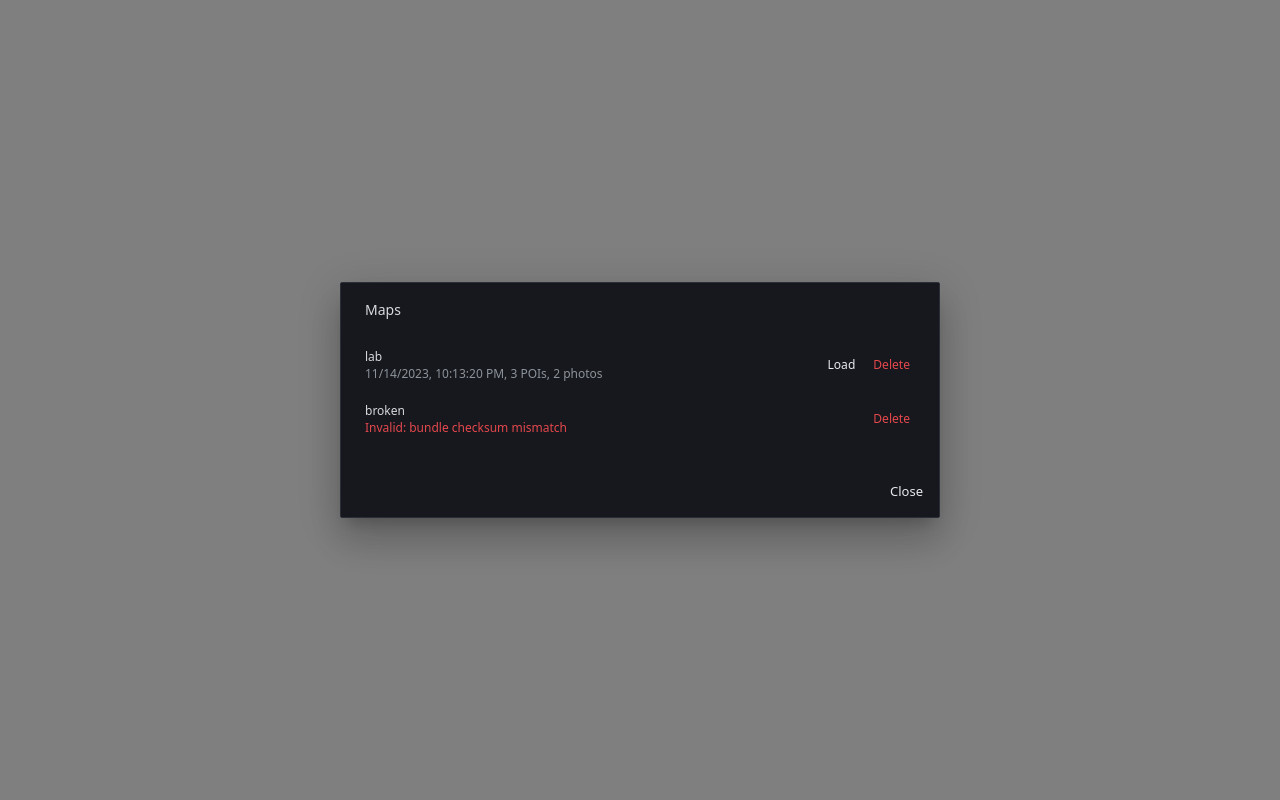
it: MapsDialog load and delete › load asks first, names the replacement and the autosave, then posts the name
The width and height of the screenshot is (1280, 800).
Click the button with aria-label "Load lab": x=841, y=365 [822,349,860,381]
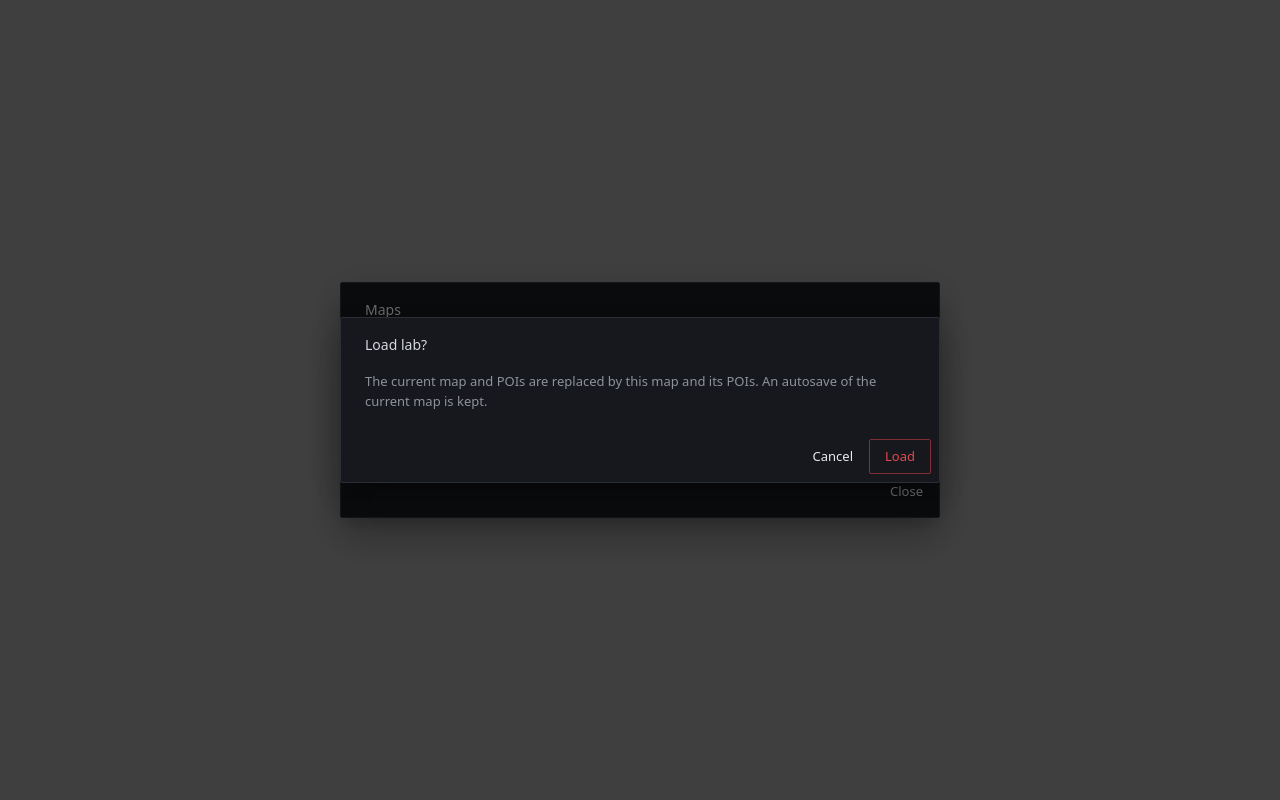
Now the dialog shows "current map and POIs are replaced", box [365,372,876,410]
Now the dialog shows "autosave", box [365,372,876,410]
Click the button "Load": x=900, y=457 [869,439,931,474]
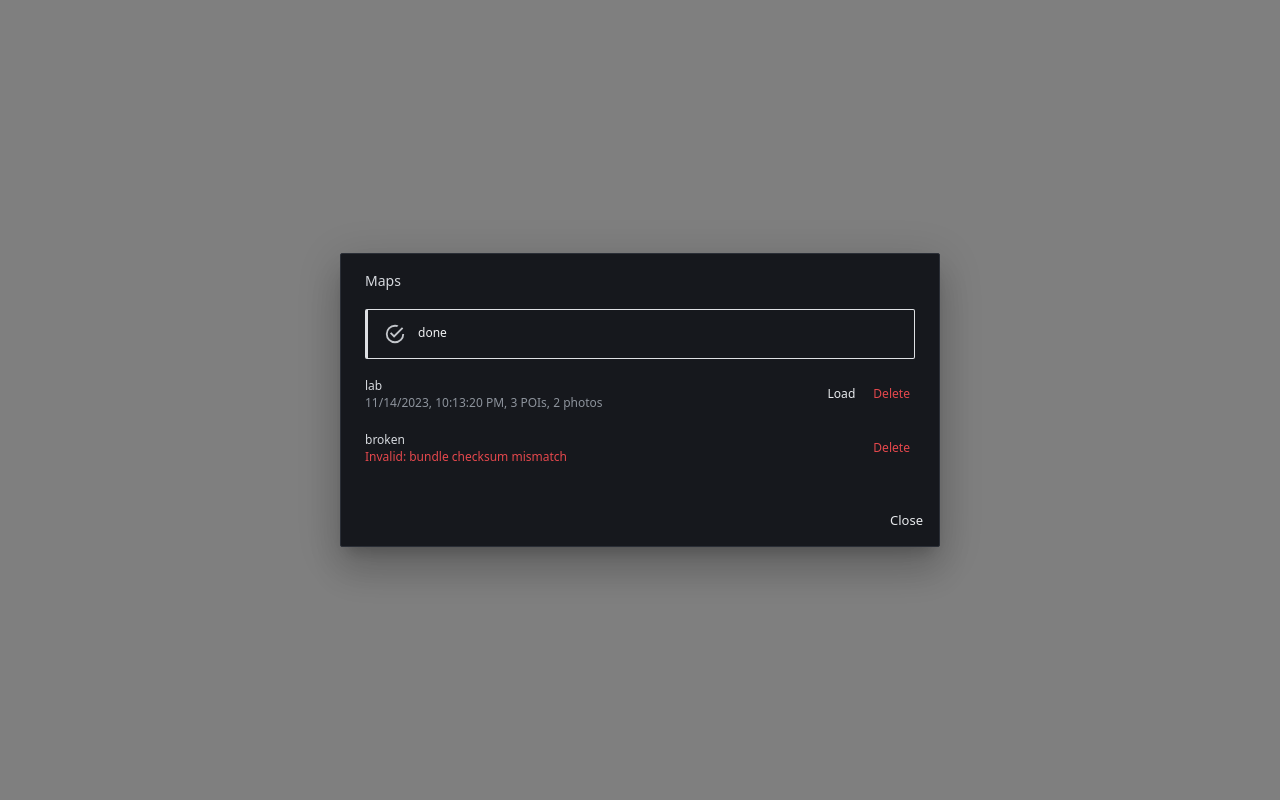
Now the text "done" is shown, box [418,324,447,340]
